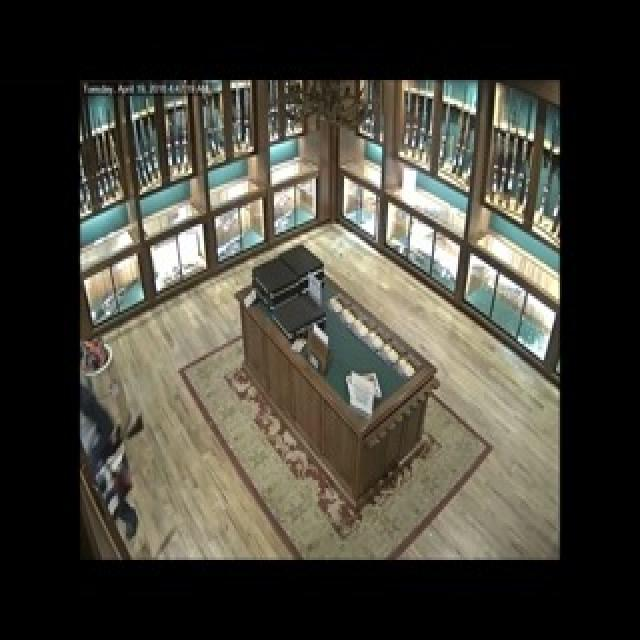thief: (75, 380, 132, 513)
